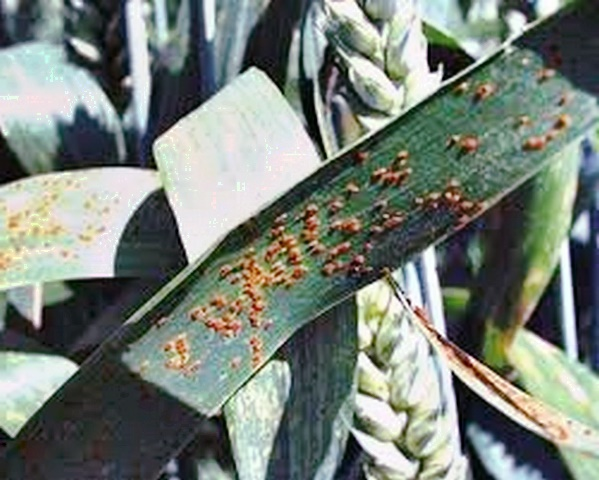Leaf Rust: (160, 147, 470, 387)
